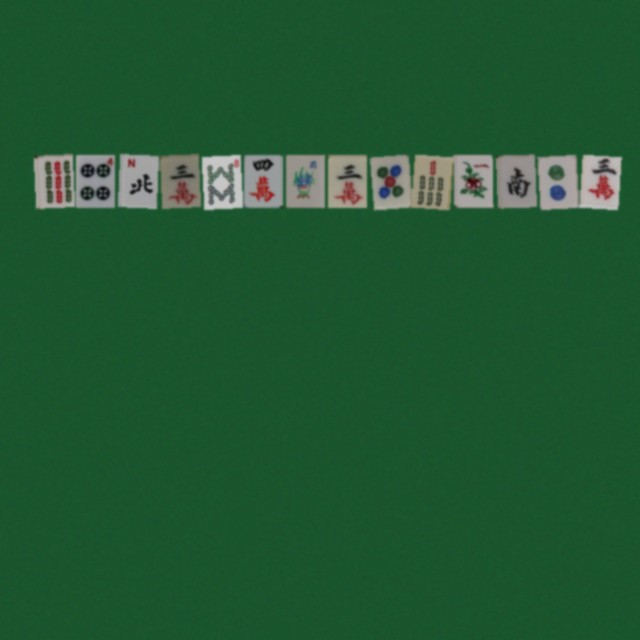tile: (33, 154, 72, 207), (75, 154, 114, 207), (117, 154, 156, 207), (159, 154, 198, 207), (201, 154, 240, 207), (243, 154, 282, 207), (285, 154, 324, 207), (327, 154, 366, 207), (369, 154, 408, 207), (411, 154, 450, 207), (453, 154, 492, 207), (495, 154, 534, 207), (537, 154, 576, 207), (579, 154, 618, 207)
